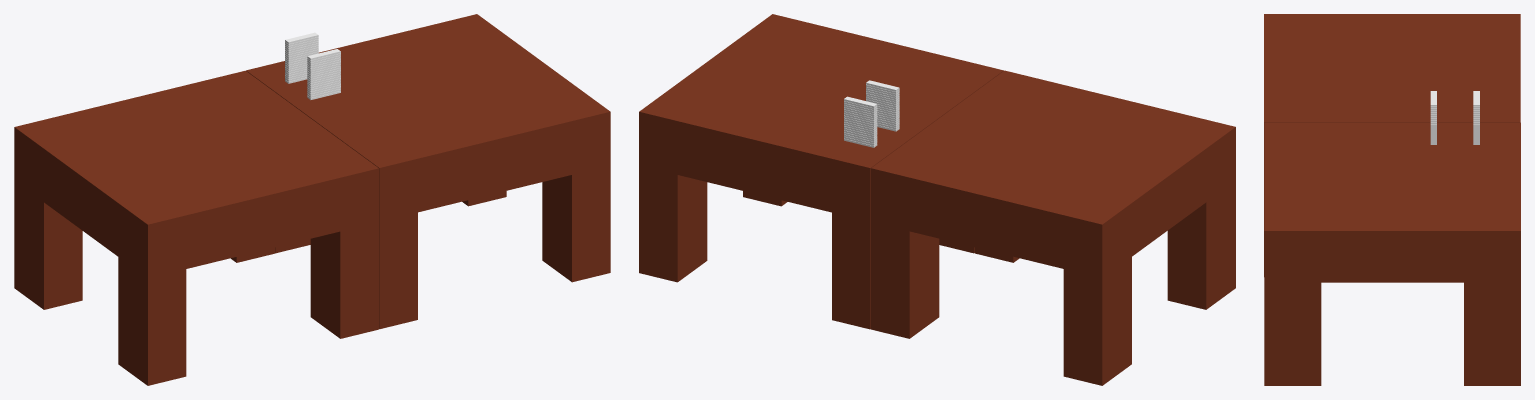
Rendered from keva_bank.dae.
3 views of the same model, side by side, from view 1: azimuth 30°, elevation 25°; view 2: azimuth 150°, elevation 25°; view 3: azimuth 270°, elevation 25° (orthographic). The views are drawn at different scales.
Visible parts, largest first — view 1: base (×7); view 2: base (×7); view 3: base (×4).
Boxes of the visible parts, bbox=[...] form: base (×7): bbox=[14, 14, 610, 385]; base (×7): bbox=[639, 14, 1235, 385]; base (×4): bbox=[1264, 14, 1520, 385].
Size of the model in its own units: 1.8 by 0.9009 by 0.7554.
